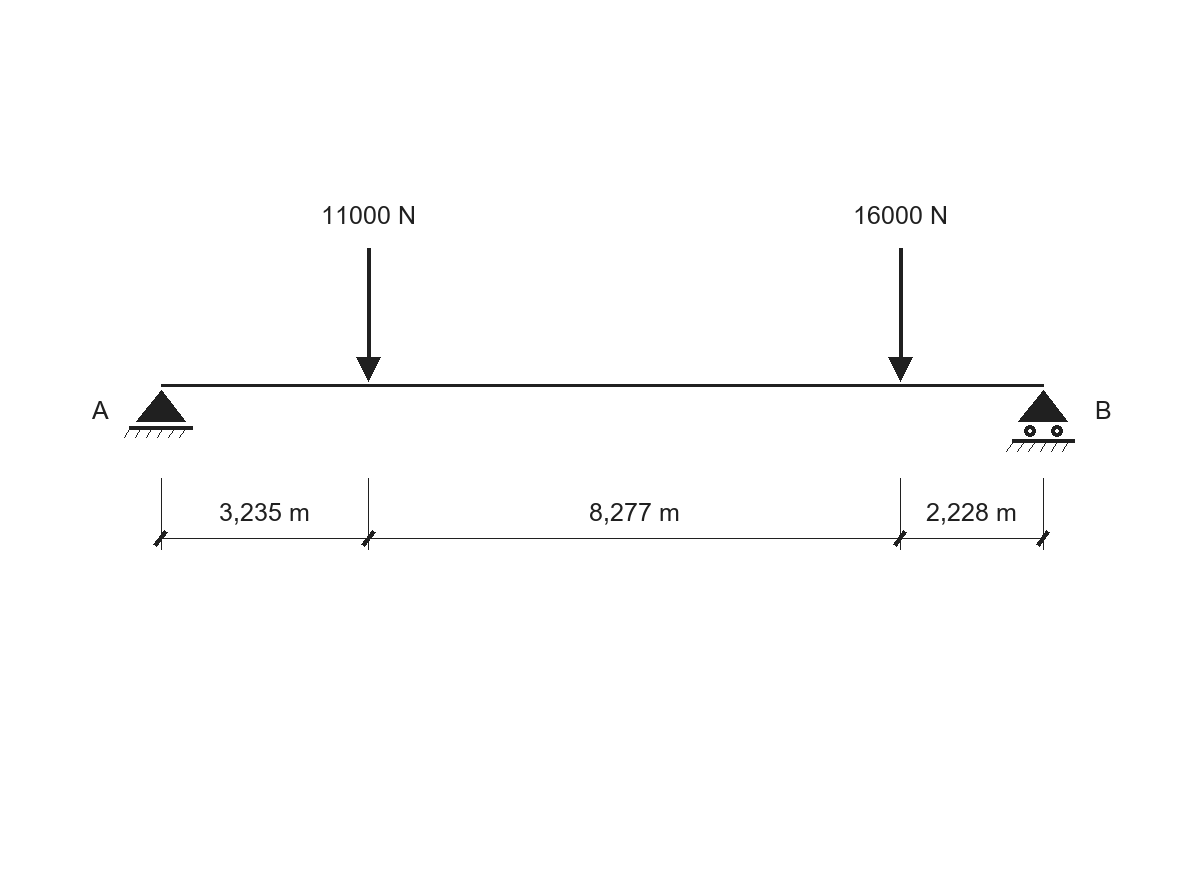pin_support: (124, 390, 193, 438)
point_load: (356, 248, 381, 382), (888, 248, 913, 382)
roller_support: (1006, 390, 1075, 452)
